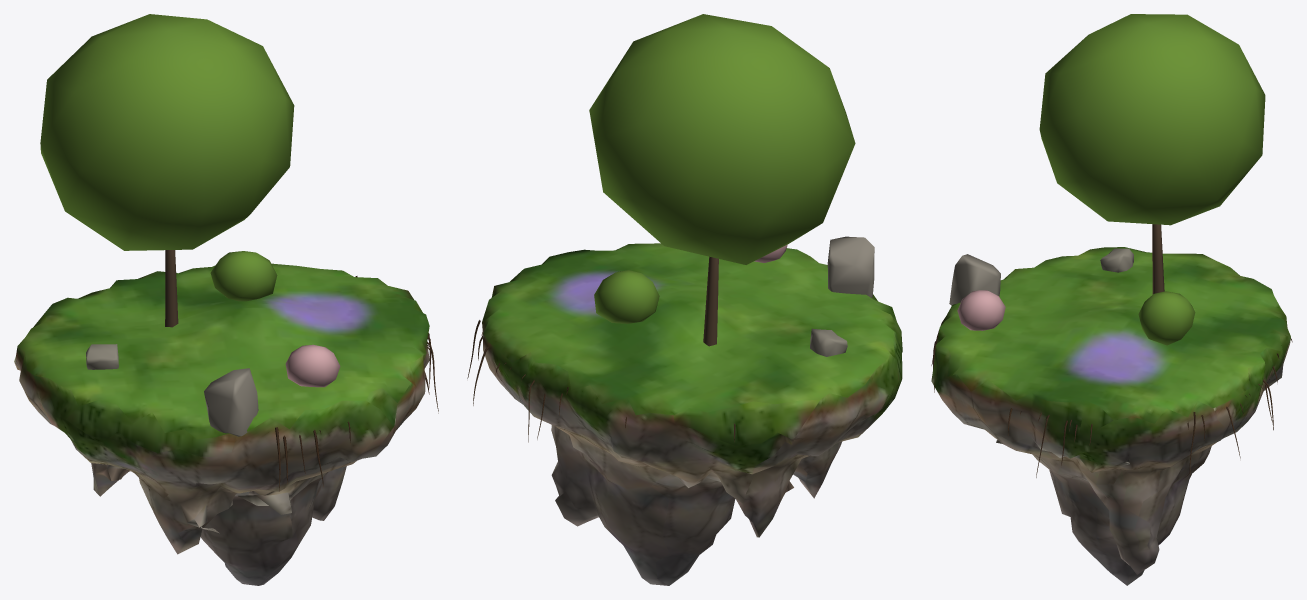
The model's file is island-tiny-lod1.glb.
The picture shows the model from 3 angles, left to right: view 1: azimuth 30°, elevation 25°; view 2: azimuth 150°, elevation 25°; view 3: azimuth 270°, elevation 25°; orthographic projection. The views are drawn at different scales.
Visible parts, largest first — view 1: Terrain, Detail; view 2: Terrain, Detail; view 3: Terrain, Detail.
Boxes of the visible parts, x1,y1,x2,y2 form: Terrain: (14,263,429,585); Detail: (40,14,438,491); Terrain: (482,243,902,585); Detail: (467,14,874,442); Terrain: (931,247,1290,585); Detail: (931,14,1292,477).
Bounding box in the file's own units: 14.78 × 21.65 × 13.53.
Materials: 2 (1 with a texture image).
